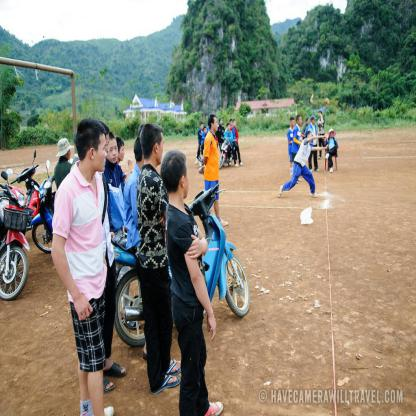face: (94, 136, 108, 172), (180, 165, 190, 198), (155, 137, 165, 165), (108, 141, 118, 164), (118, 144, 125, 161), (213, 118, 219, 131), (66, 147, 72, 160), (299, 118, 303, 125), (310, 134, 313, 142), (292, 121, 295, 127), (313, 119, 316, 125), (205, 130, 208, 135), (228, 125, 231, 130), (319, 113, 322, 117), (331, 133, 334, 137), (202, 125, 204, 130), (221, 120, 223, 125), (232, 121, 234, 126), (235, 122, 237, 127), (309, 120, 311, 124)
